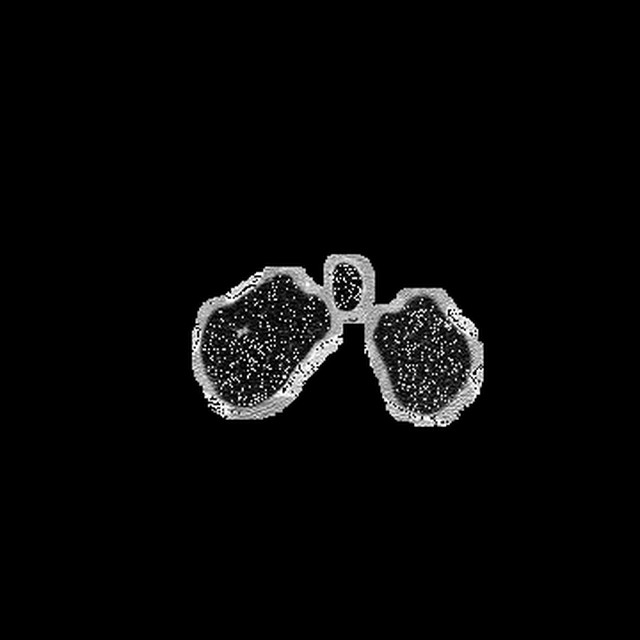PN: (236, 327, 247, 338)
